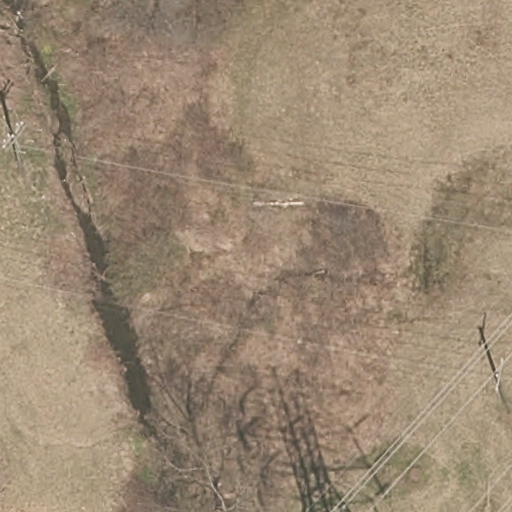DT: (3, 122, 39, 153), (494, 356, 506, 391)
